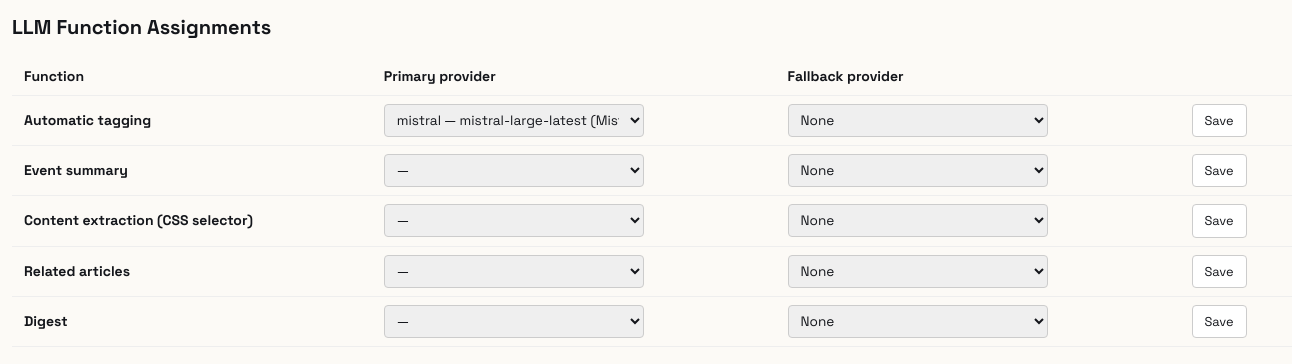
Test: LlmFunctionAssignments › shows saved confirmation after successful save
Click the button "Save" in the row of "Automatic tagging" at coordinates (1219, 121), box [1192, 104, 1247, 137]
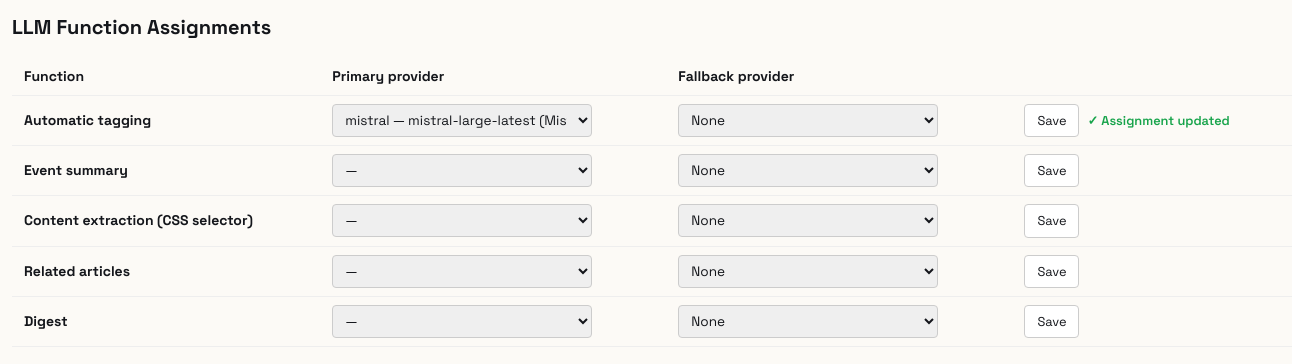
Expected: the text "Assignment updated" is shown, [1088, 112, 1230, 129]
